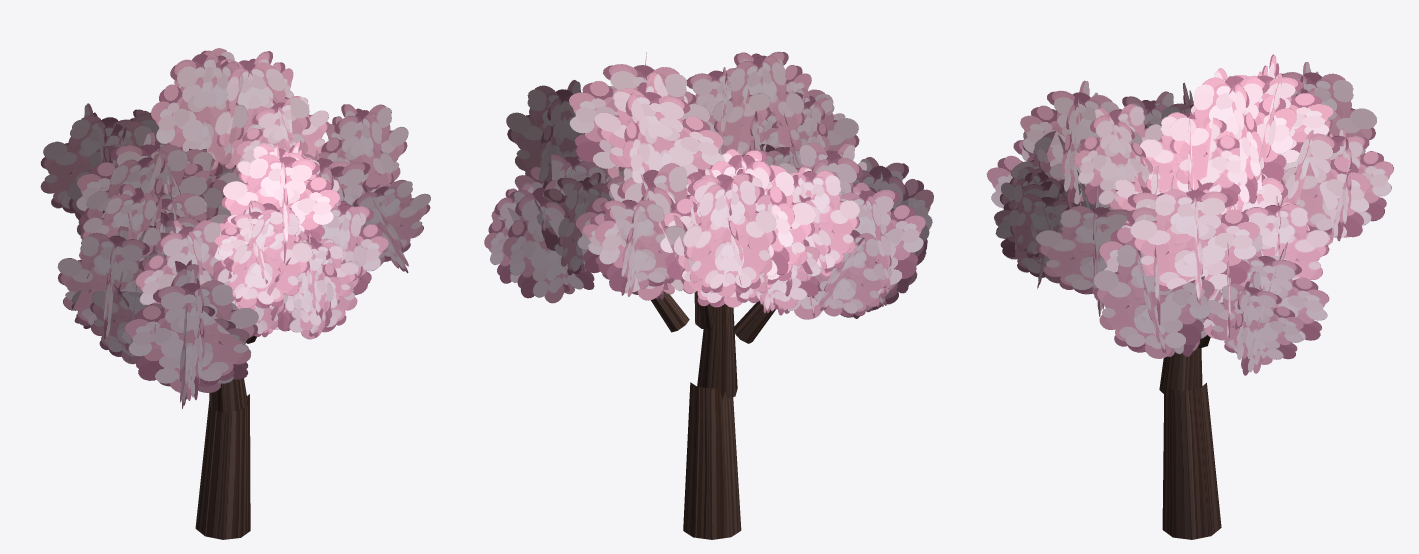
The model's file is anime_tree_sakura.glb.
3 renders of one model, left to right at view 1: azimuth 30°, elevation 25°; view 2: azimuth 150°, elevation 25°; view 3: azimuth 270°, elevation 25°, orthographic. The views are drawn at different scales.
Parts seen in each view (by area): view 1: anime_tree_sakura; view 2: anime_tree_sakura; view 3: anime_tree_sakura.
Part boxes in pixels (bbox=[...]): anime_tree_sakura: bbox=[40, 48, 430, 539]; anime_tree_sakura: bbox=[484, 51, 933, 539]; anime_tree_sakura: bbox=[986, 54, 1393, 539].
Size of the model in its own units: 5.64 by 6.59 by 5.16.
Materials: 2 (2 with a texture image).
